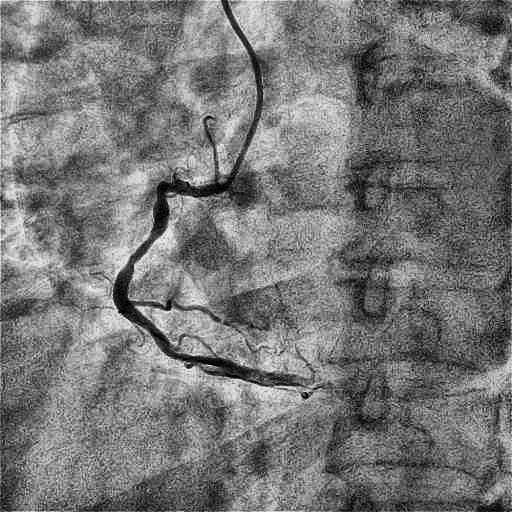pborca: (189, 355, 288, 382)
rca: (113, 180, 224, 360)
